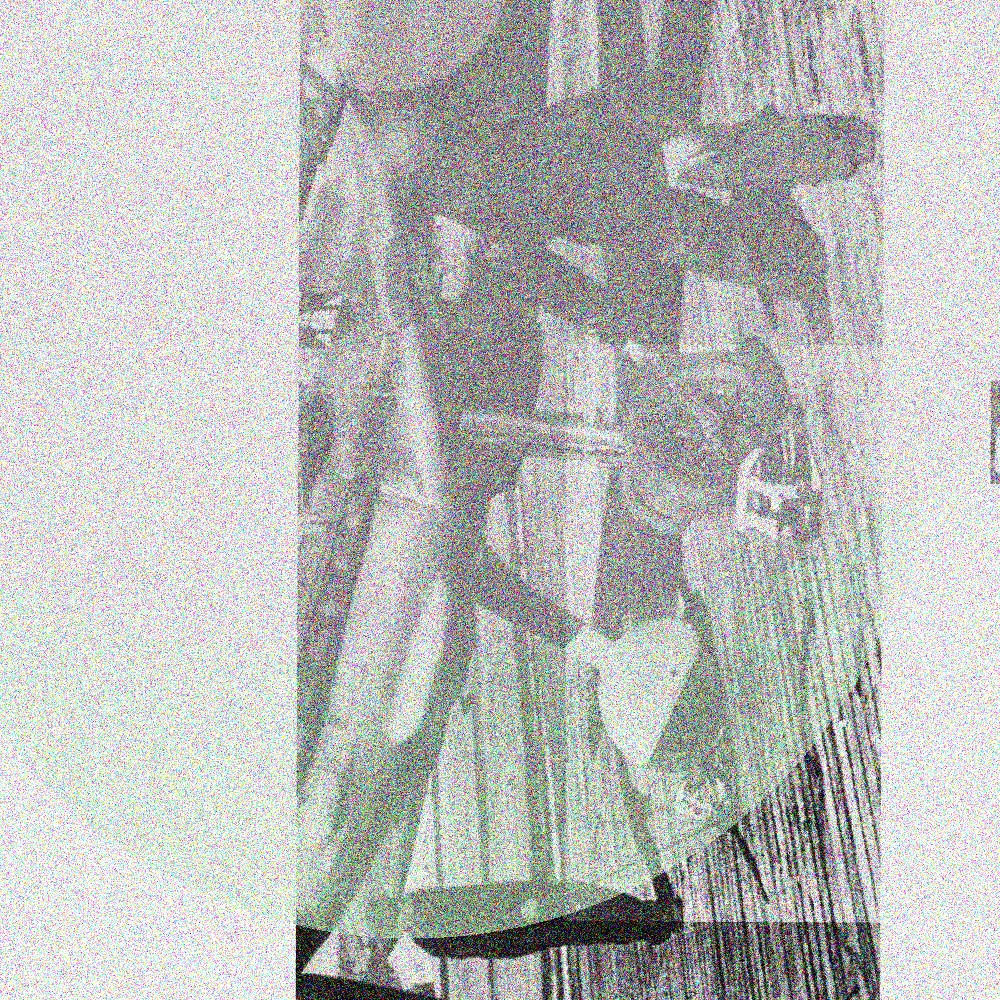chock: (730, 399, 828, 546), (666, 726, 747, 838)
wheel: (619, 340, 791, 539), (589, 618, 723, 781)
